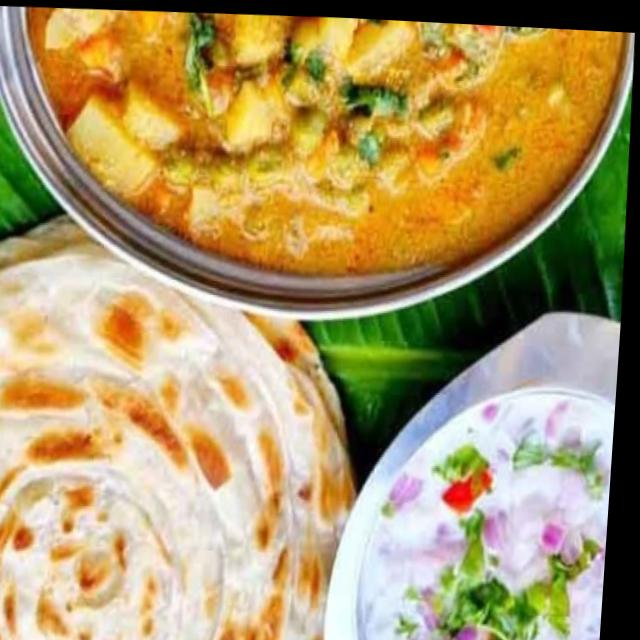CURD: (356, 391, 614, 640)
CURRY: (24, 8, 619, 276)
PAROTTA: (0, 214, 356, 640)
